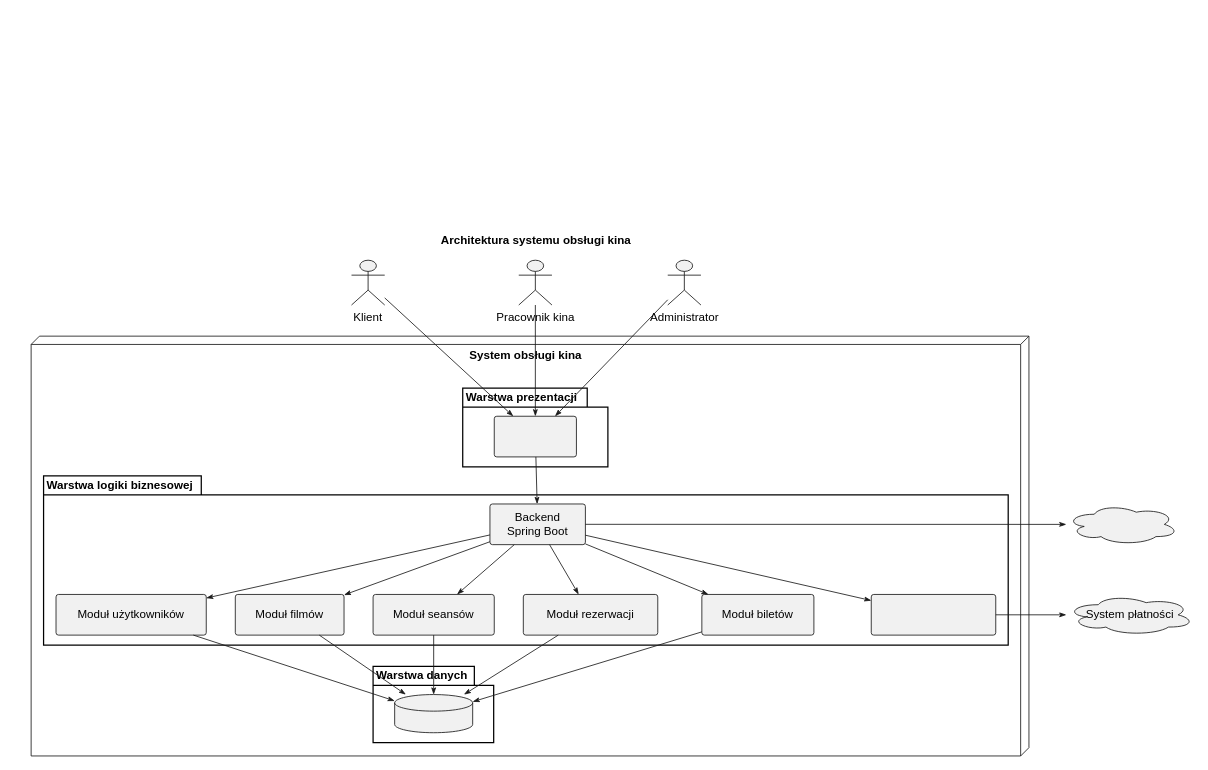
Image size: 1208x770. Some labels were removed from this diagram. Each missing label, with the centre of its shape:
"Frontend React" belongs at (534,436).
"Moduł płatności" belongs at (933,614).
"PostgreSQL" belongs at (433,713).
"Usługa e-mail" belongs at (1121,524).
